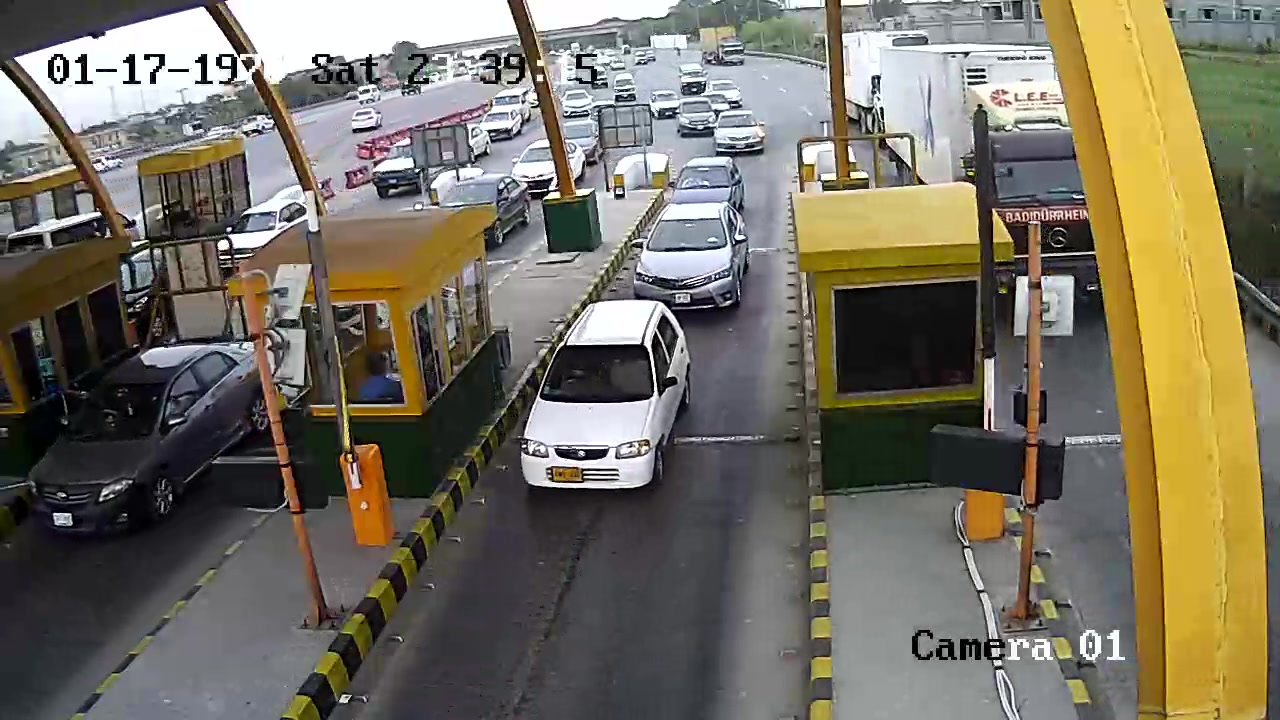F1: (518, 300, 701, 500), (640, 193, 752, 315)
